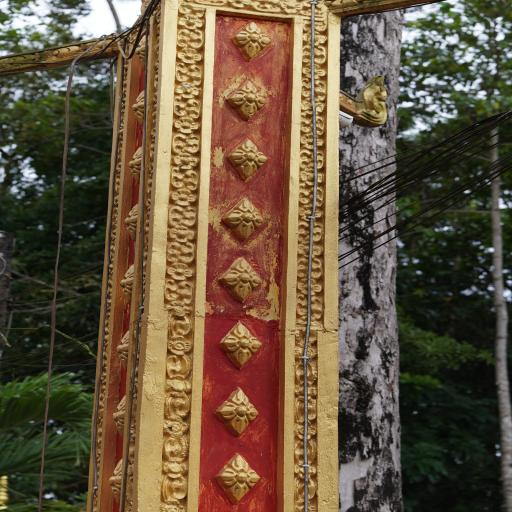hoa: (216, 452, 262, 505), (215, 255, 265, 301), (222, 134, 268, 181), (221, 319, 262, 370), (218, 386, 261, 434), (224, 192, 266, 241), (223, 75, 265, 117), (234, 19, 266, 63), (294, 128, 324, 153), (162, 416, 190, 438), (171, 46, 203, 64), (292, 378, 318, 400), (174, 115, 202, 135), (300, 278, 325, 300), (298, 168, 323, 190), (164, 300, 194, 318), (164, 334, 191, 354), (296, 418, 318, 442), (298, 202, 322, 224), (301, 96, 325, 118), (303, 63, 330, 82), (167, 262, 191, 283), (163, 457, 186, 478), (297, 240, 321, 260), (173, 81, 198, 100), (293, 461, 315, 482), (177, 12, 201, 30), (172, 152, 196, 170), (172, 188, 196, 206), (280, 0, 302, 17), (168, 226, 190, 242), (226, 0, 250, 10)
